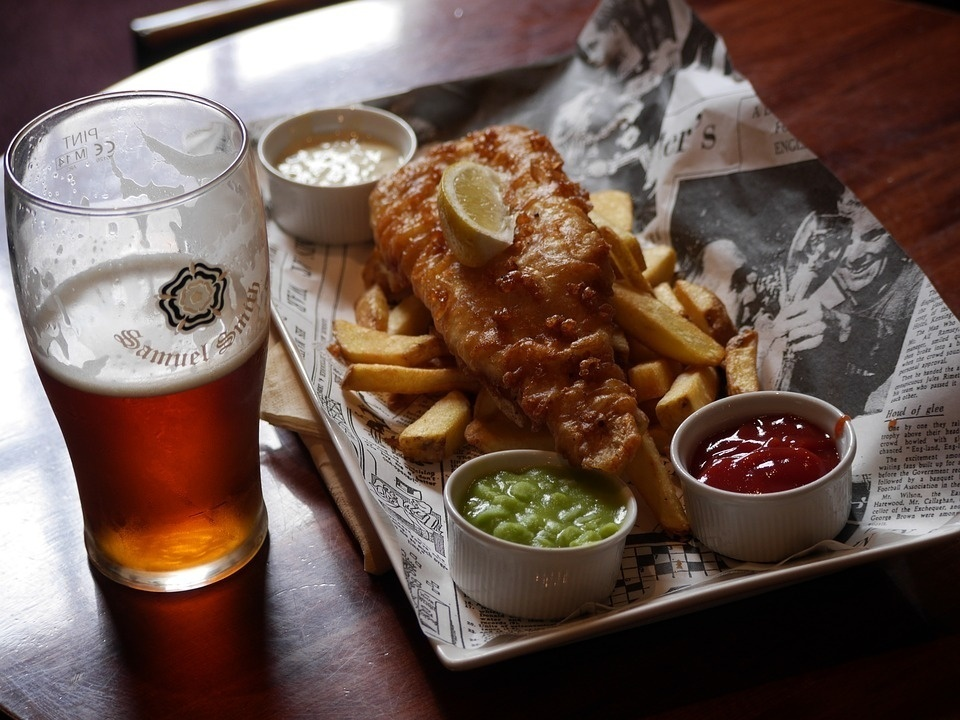whiskey: (17, 91, 278, 600)
